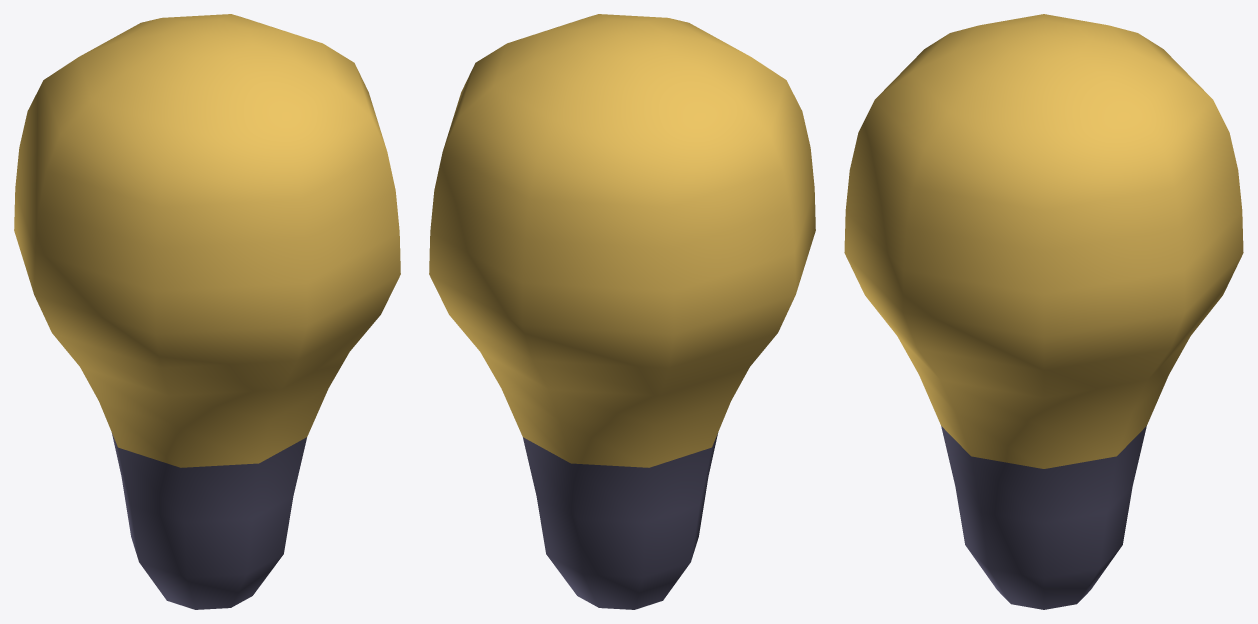
The model's file is LightBulb.fbx.
3 renders of one model, left to right at view 1: azimuth 30°, elevation 25°; view 2: azimuth 150°, elevation 25°; view 3: azimuth 270°, elevation 25°, orthographic.
Visible parts, largest first — view 1: Bulb; view 2: Bulb; view 3: Bulb.
Part boxes in pixels (<box>): Bulb: <box>14,14,400,609</box>; Bulb: <box>429,14,815,609</box>; Bulb: <box>844,14,1243,609</box>.
Size of the model in its own units: 51.45 by 81.4 by 51.45.
